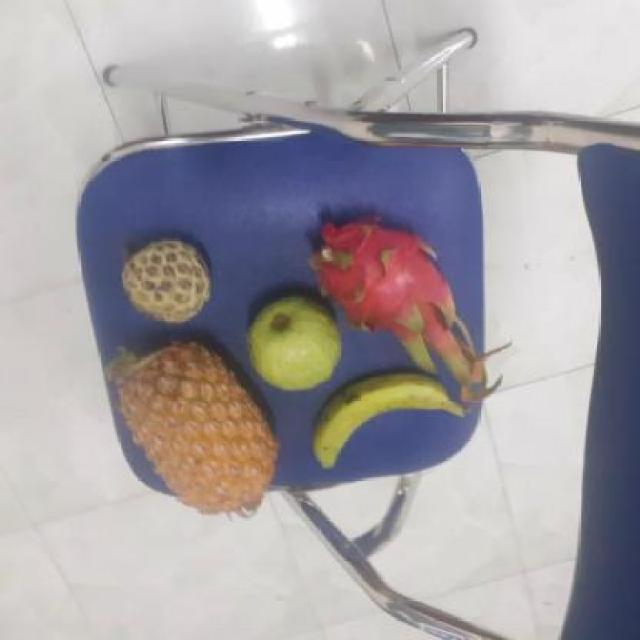banana: (308, 370, 454, 476)
dragon fruit: (305, 222, 449, 342)
guava: (241, 293, 342, 395)
pineapple: (103, 337, 274, 515)
sugar apple: (113, 238, 209, 327)
